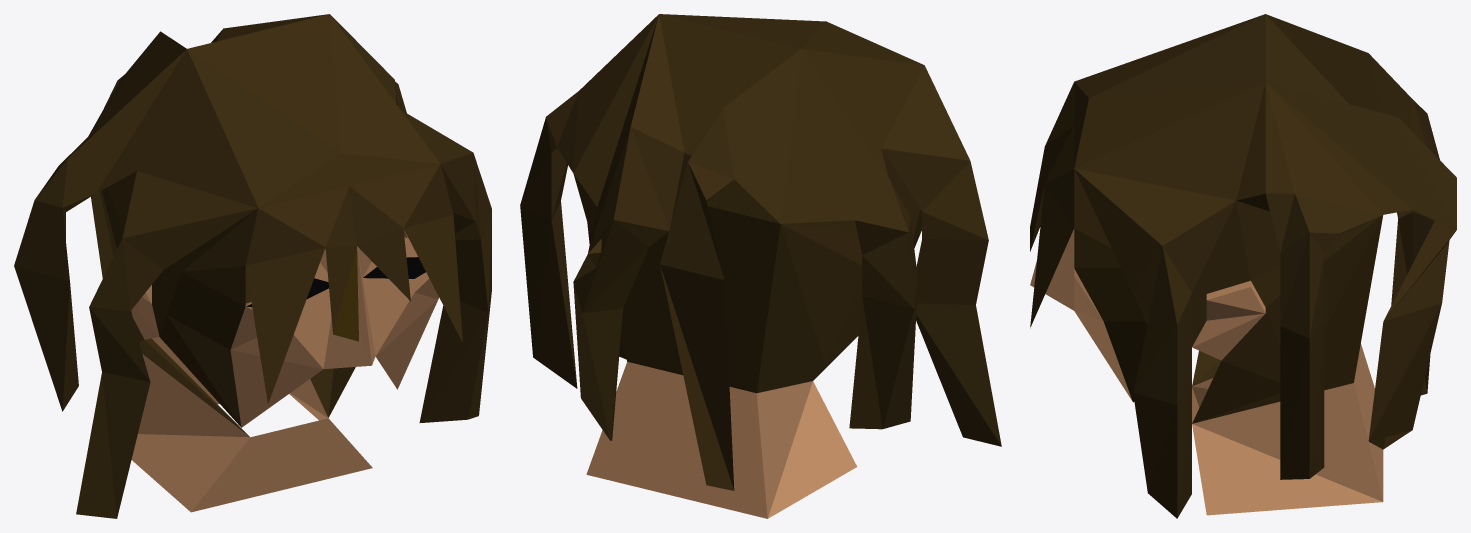
File: model_210_idk.obj
The picture shows the model from 3 angles, left to right: view 1: azimuth 30°, elevation 25°; view 2: azimuth 150°, elevation 25°; view 3: azimuth 270°, elevation 25°; orthographic projection.
Parts seen in each view (by area): view 1: 210; view 2: 210; view 3: 210.
Part boxes in pixels (bbox=[...]): 210: bbox=[14, 14, 491, 518]; 210: bbox=[520, 14, 1001, 518]; 210: bbox=[1030, 14, 1456, 518].
Size of the model in its own units: 32 by 32 by 29.
